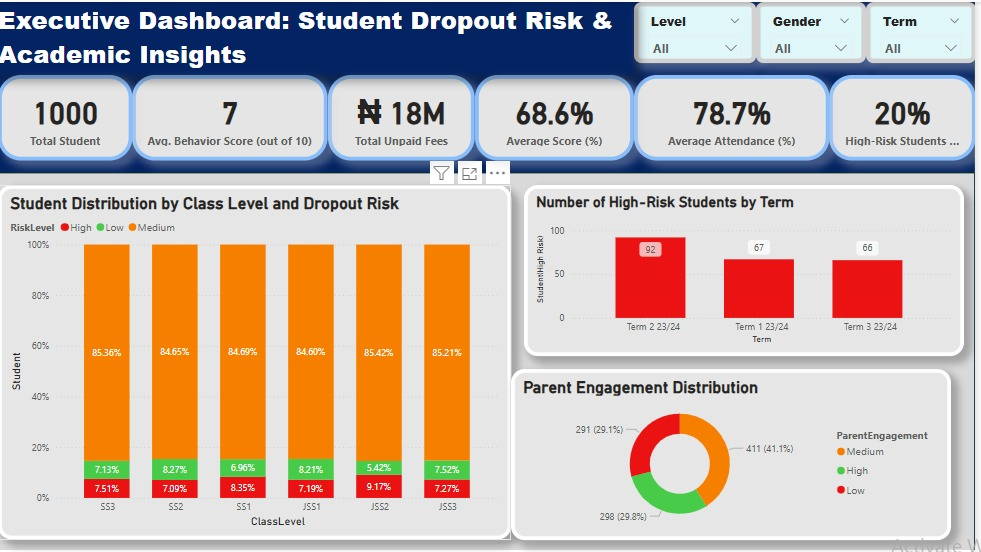

What the dashboard file says about the page in this screenshot:
{"tool":"powerbi","page":{"name":"Executive_Dashboard","canvas":[1280,720],"ordinal":0},"visuals":[{"type":"hundredPercentStackedColumnChart","title":"Student Distribution by Class Level and Dropout Risk","fields":{"Category":["vw_DropoutRisk.ClassLevel"],"Y":["CountNonNull(vw_DropoutRisk.StudentID)"],"Series":["vw_DropoutRisk.DropoutRiskLevel"]},"box":[0,240,672,464],"z":0},{"type":"donutChart","title":"Parent Engagement Distribution","fields":{"Category":["vw_DropoutRisk.ParentEngagement"],"Y":["Count(vw_DropoutRisk.StudentID)"]},"box":[672,480,576,224],"z":1000},{"type":"lineStackedColumnComboChart","title":"Number of High-Risk Students by Term","fields":{"Category":["vw_DropoutRisk.Term"],"Y":["vw_DropoutRisk.HighRiskCount_DistinctStudents"]},"box":[688,240,576,224],"z":2000},{"type":"slicer","fields":{"Values":["vw_DropoutRisk.ClassLevel"]},"box":[832,0,160,80],"z":3000},{"type":"card","fields":{"Values":["vw_DropoutRisk.HighRiskP"]},"box":[1088,96,192,112],"z":4000},{"type":"card","fields":{"Values":["vw_DropoutRisk.%averagescore"]},"box":[832,96,256,112],"z":5000},{"type":"card","fields":{"Values":["Sum(vw_DropoutRisk.Balance)"]},"box":[432,96,192,112],"z":6000},{"type":"card","fields":{"Values":["vw_DropoutRisk.%averagescore"]},"box":[624,96,208,112],"z":7000},{"type":"card","fields":{"Values":["Avg(vw_DropoutRisk.BehaviorScore)"]},"box":[176,96,256,112],"z":8000},{"type":"card","fields":{"Values":["Count(vw_DropoutRisk.StudentID)"]},"box":[0,96,176,112],"z":9000},{"type":"slicer","fields":{"Values":["vw_DropoutRisk.Gender"]},"box":[992,0,144,80],"z":10000},{"type":"slicer","fields":{"Values":["vw_DropoutRisk.Term"]},"box":[1136,0,144,80],"z":11000},{"type":"textbox","box":[0,0,832,96],"z":12000}]}

Visuals, with their boxes in screenshot pixels (x1, y1, x2, y2), scaled from the page's 1280x720 canvas onto the 981x552 screenshot:
"Student Distribution by Class Level and Dropout Risk" hundredPercentStackedColumnChart: 0, 184, 515, 540
"Parent Engagement Distribution" donutChart: 515, 368, 956, 540
"Number of High-Risk Students by Term" lineStackedColumnComboChart: 527, 184, 969, 356
slicer - vw_DropoutRisk.ClassLevel: 638, 0, 760, 61
card - vw_DropoutRisk.HighRiskP: 834, 74, 980, 159
card - vw_DropoutRisk.%averagescore: 638, 74, 834, 159
card - Sum(vw_DropoutRisk.Balance): 331, 74, 478, 159
card - vw_DropoutRisk.%averagescore: 478, 74, 638, 159
card - Avg(vw_DropoutRisk.BehaviorScore): 135, 74, 331, 159
card - Count(vw_DropoutRisk.StudentID): 0, 74, 135, 159
slicer - vw_DropoutRisk.Gender: 760, 0, 871, 61
slicer - vw_DropoutRisk.Term: 871, 0, 980, 61
textbox: 0, 0, 638, 74
